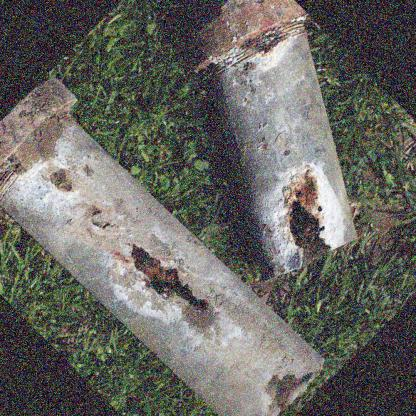burst: (134, 257, 221, 322), (286, 196, 333, 257)
